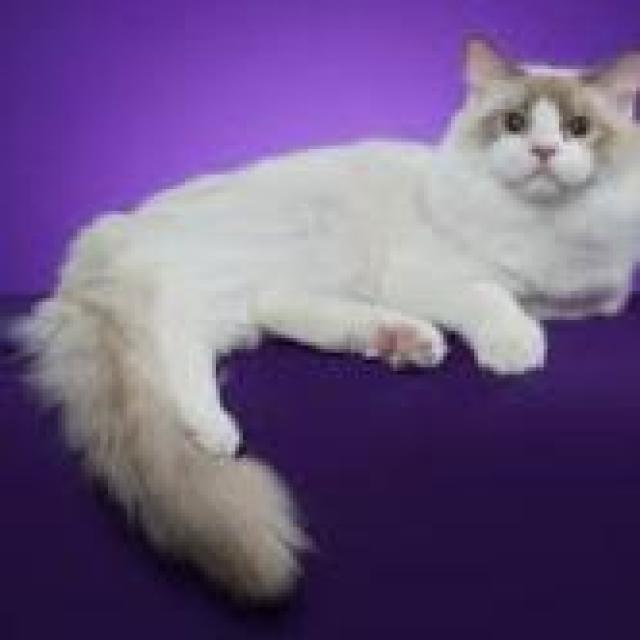Gato: (7, 32, 640, 600)
